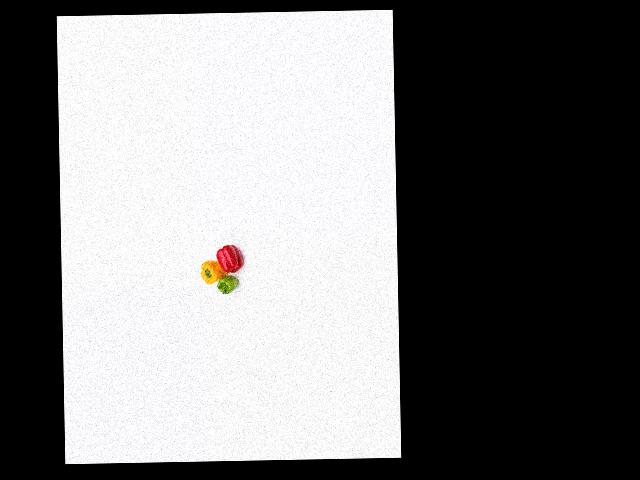bell_pepper: (215, 274, 239, 299)
